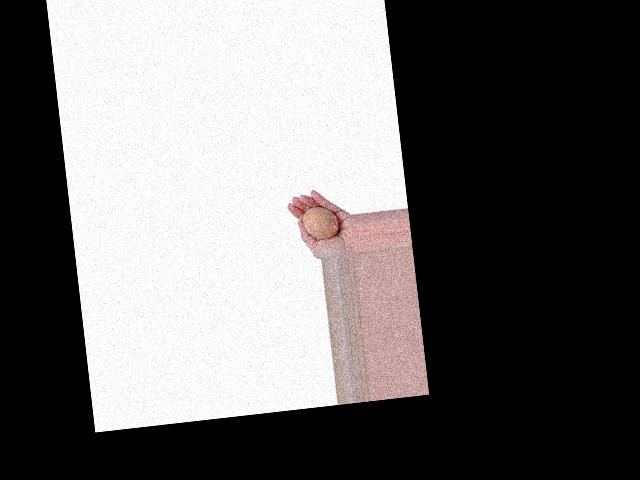egg: (302, 204, 339, 241)
